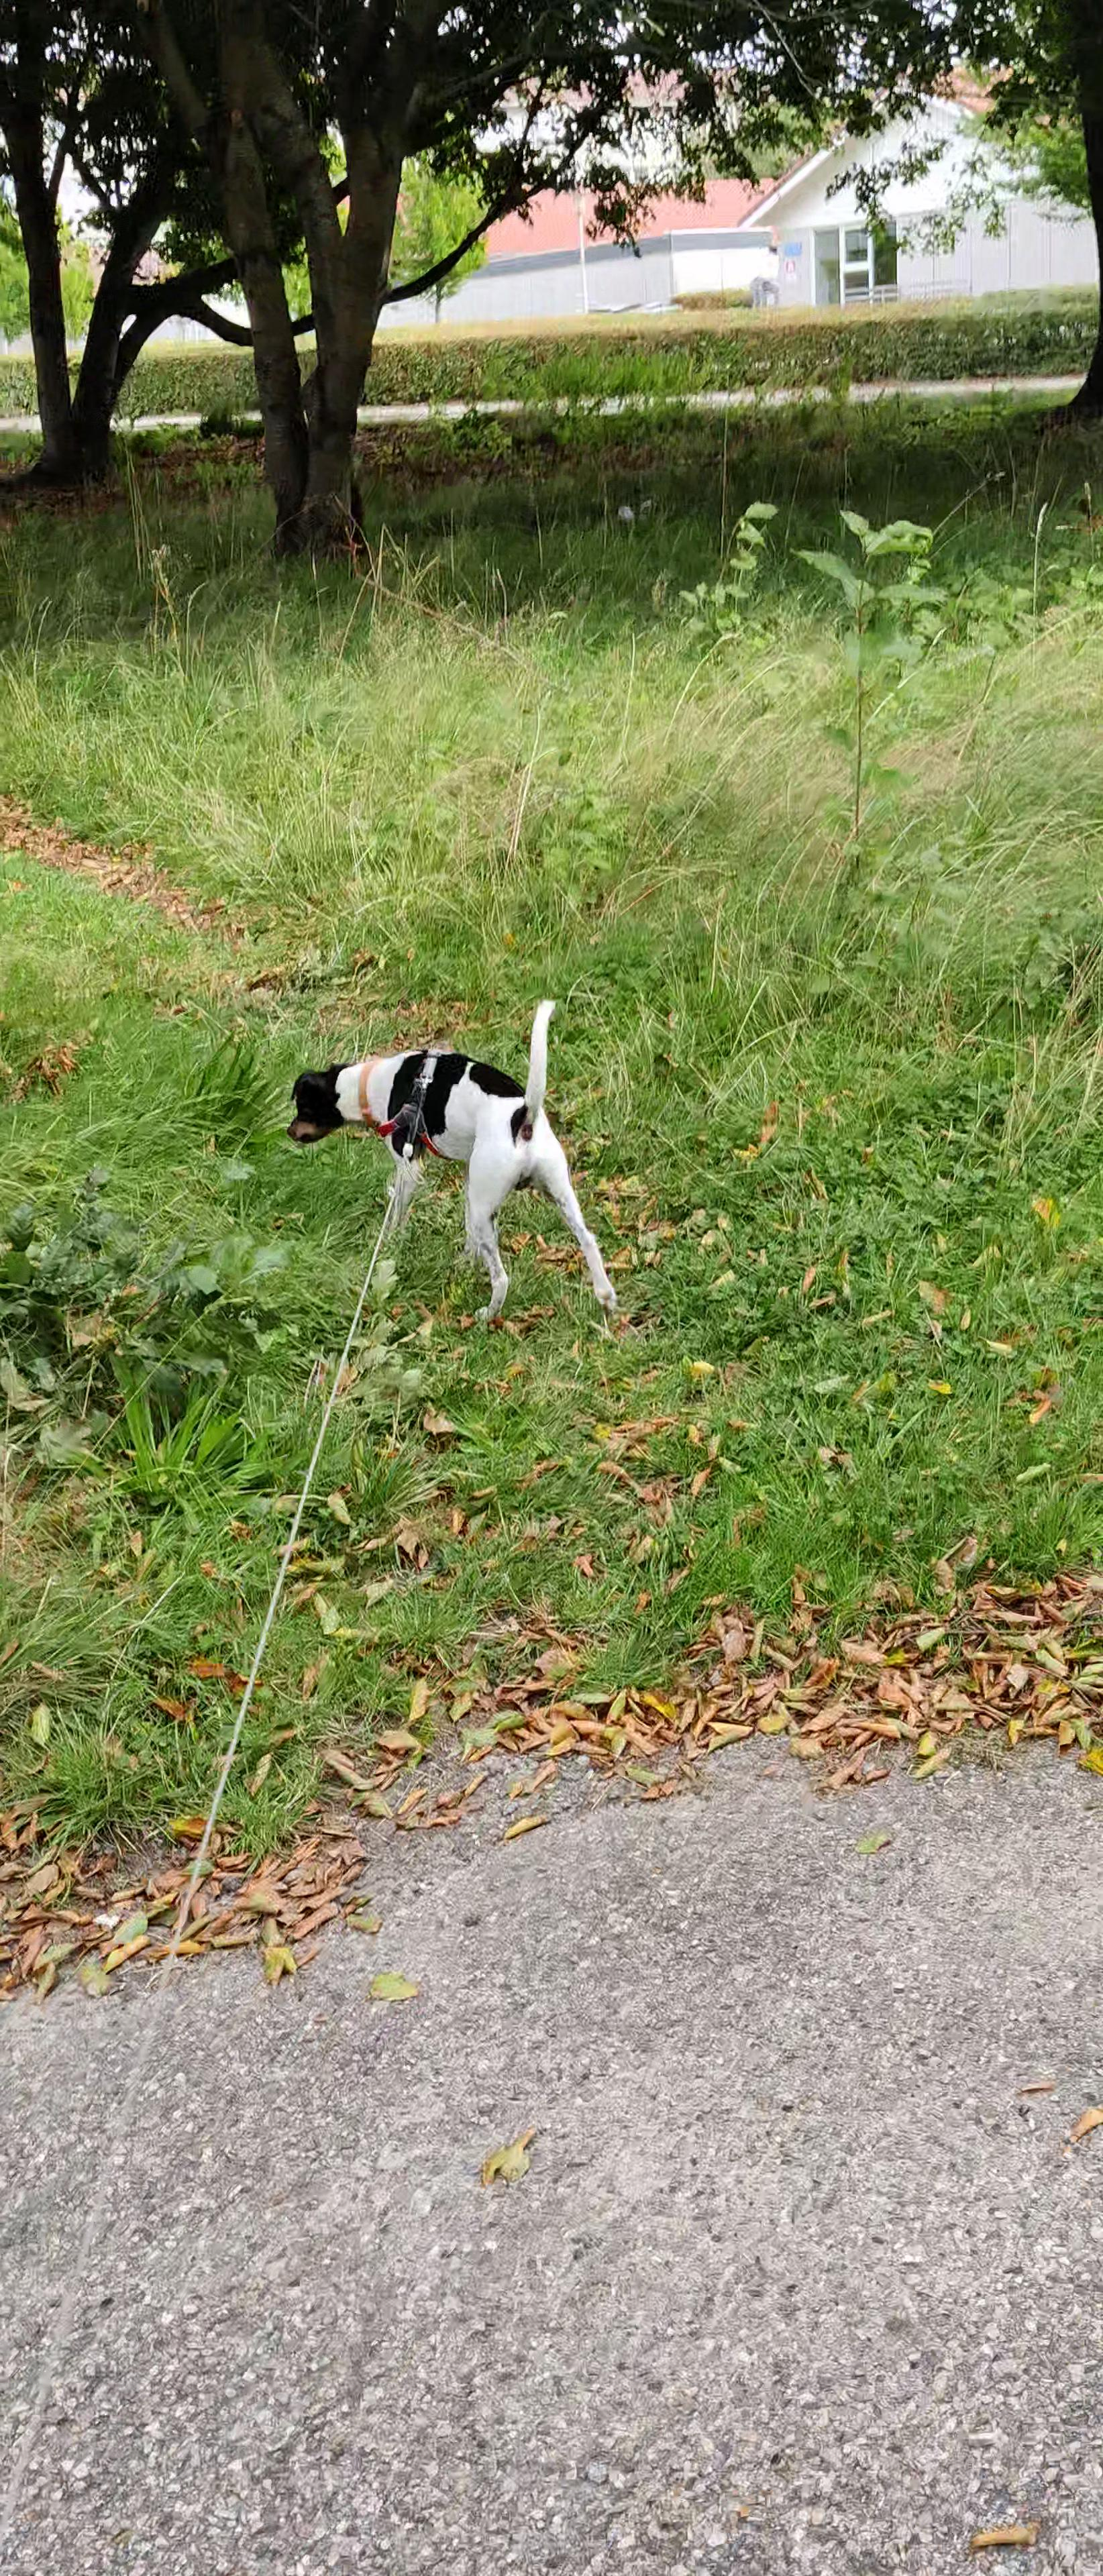Dog: (279, 992, 633, 1339)
